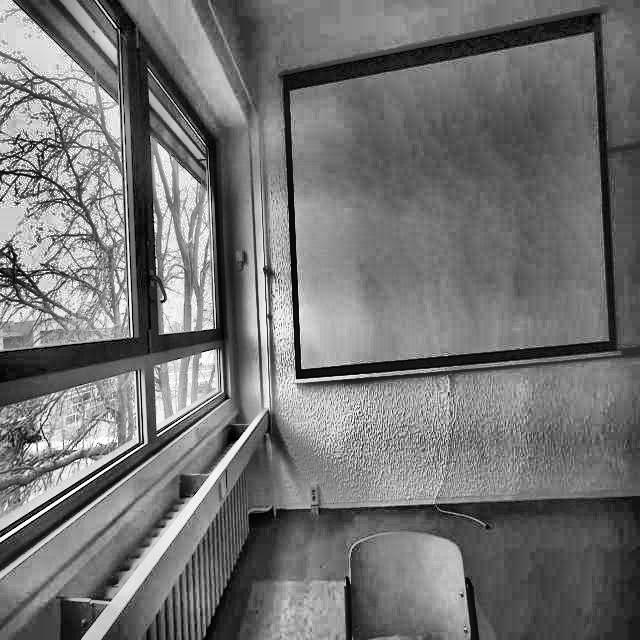ff: (126, 122, 360, 283)
